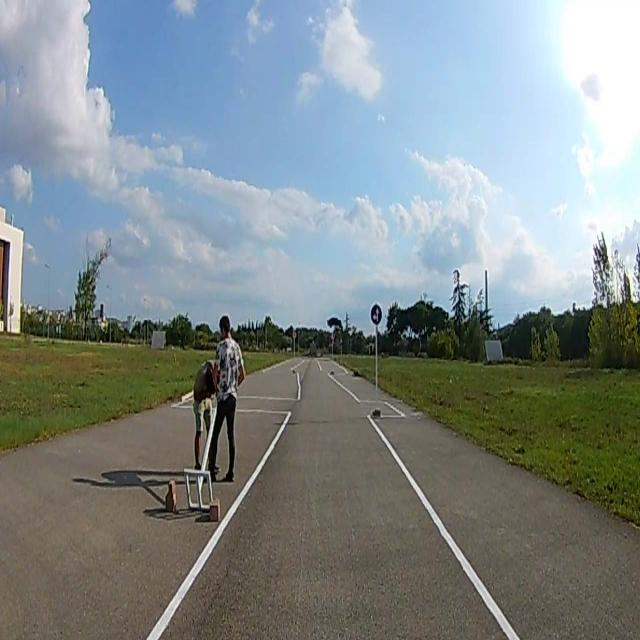ilerisol: (371, 304, 381, 324)
